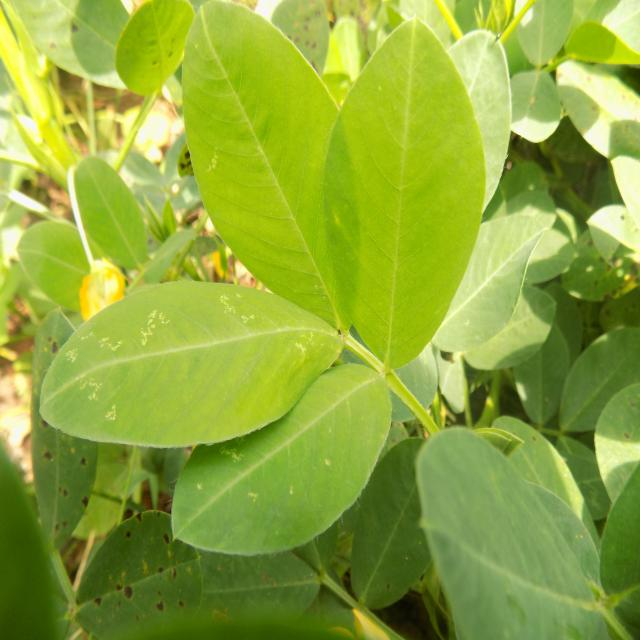Ground nut_healthy: (179, 2, 358, 331), (35, 267, 348, 446), (327, 22, 486, 373), (170, 356, 390, 552), (408, 30, 511, 229), (347, 443, 453, 605)
